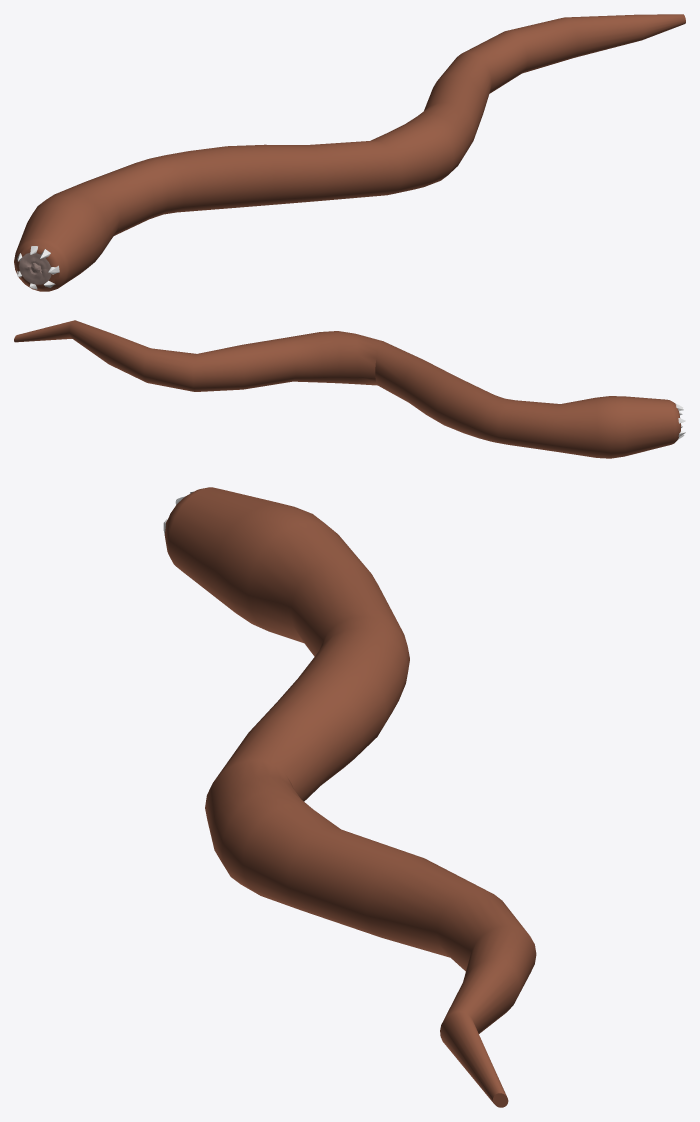
Rendered from Redworm.fbx.
3 views of the same model, one above another, from view 1: azimuth 30°, elevation 25°; view 2: azimuth 150°, elevation 25°; view 3: azimuth 270°, elevation 25° (orthographic). The views are drawn at different scales.
Parts seen in each view (by area): view 1: Redworm; view 2: Redworm; view 3: Redworm.
Part boxes in pixels (x1,y1,x2,y2): Redworm: [14, 14, 685, 291]; Redworm: [14, 320, 685, 458]; Redworm: [163, 487, 536, 1107].
Size of the model in its own units: 1.51 by 0.1382 by 0.4089.
